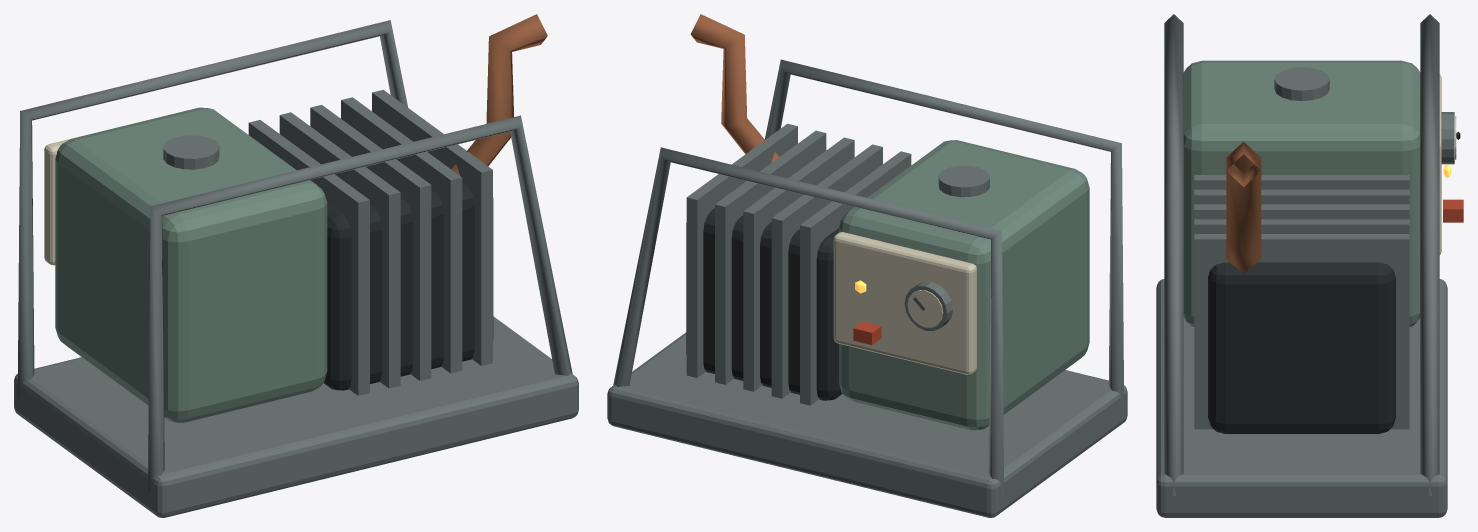
The model's file is generator.glb.
The picture shows the model from 3 angles, left to right: view 1: azimuth 30°, elevation 25°; view 2: azimuth 150°, elevation 25°; view 3: azimuth 270°, elevation 25°; orthographic projection. The views are drawn at different scales.
Parts seen in each view (by area): view 1: generator; view 2: generator; view 3: generator.
Part boxes in pixels (x1=…): generator: x1=14, y1=14, x2=578, y2=517; generator: x1=607, y1=14, x2=1127, y2=517; generator: x1=1156, y1=14, x2=1463, y2=517.
Size of the model in its own units: 1.67 by 1.39 by 1.05.
